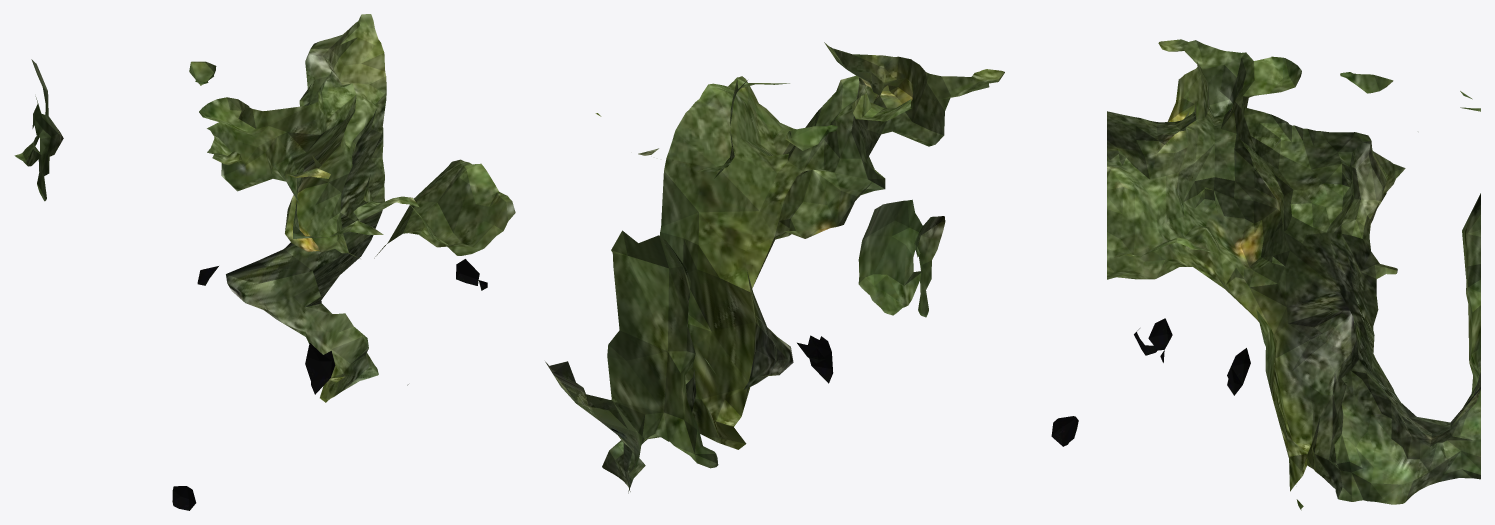
3 views of the same model, side by side, from view 1: azimuth 30°, elevation 25°; view 2: azimuth 150°, elevation 25°; view 3: azimuth 270°, elevation 25° (orthographic). The views are drawn at different scales.
Bounding box in the file's own units: 2.95 × 2.95 × 2.95.
Materials: 4 (4 with a texture image).
